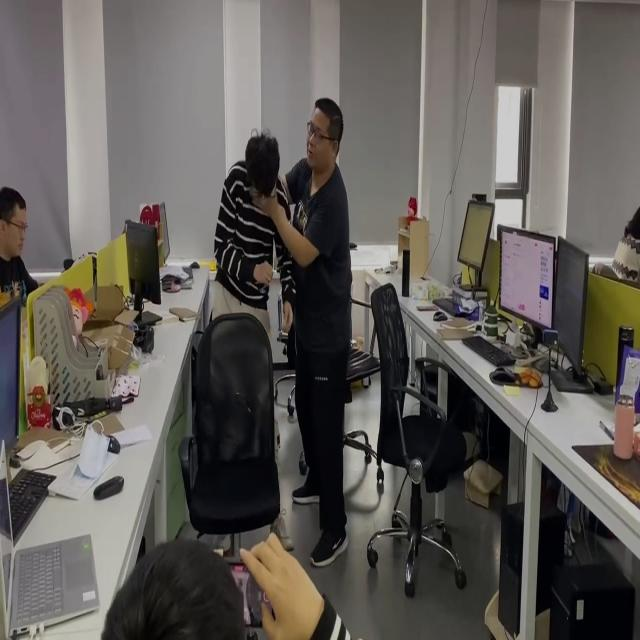fight: (213, 98, 358, 564)
